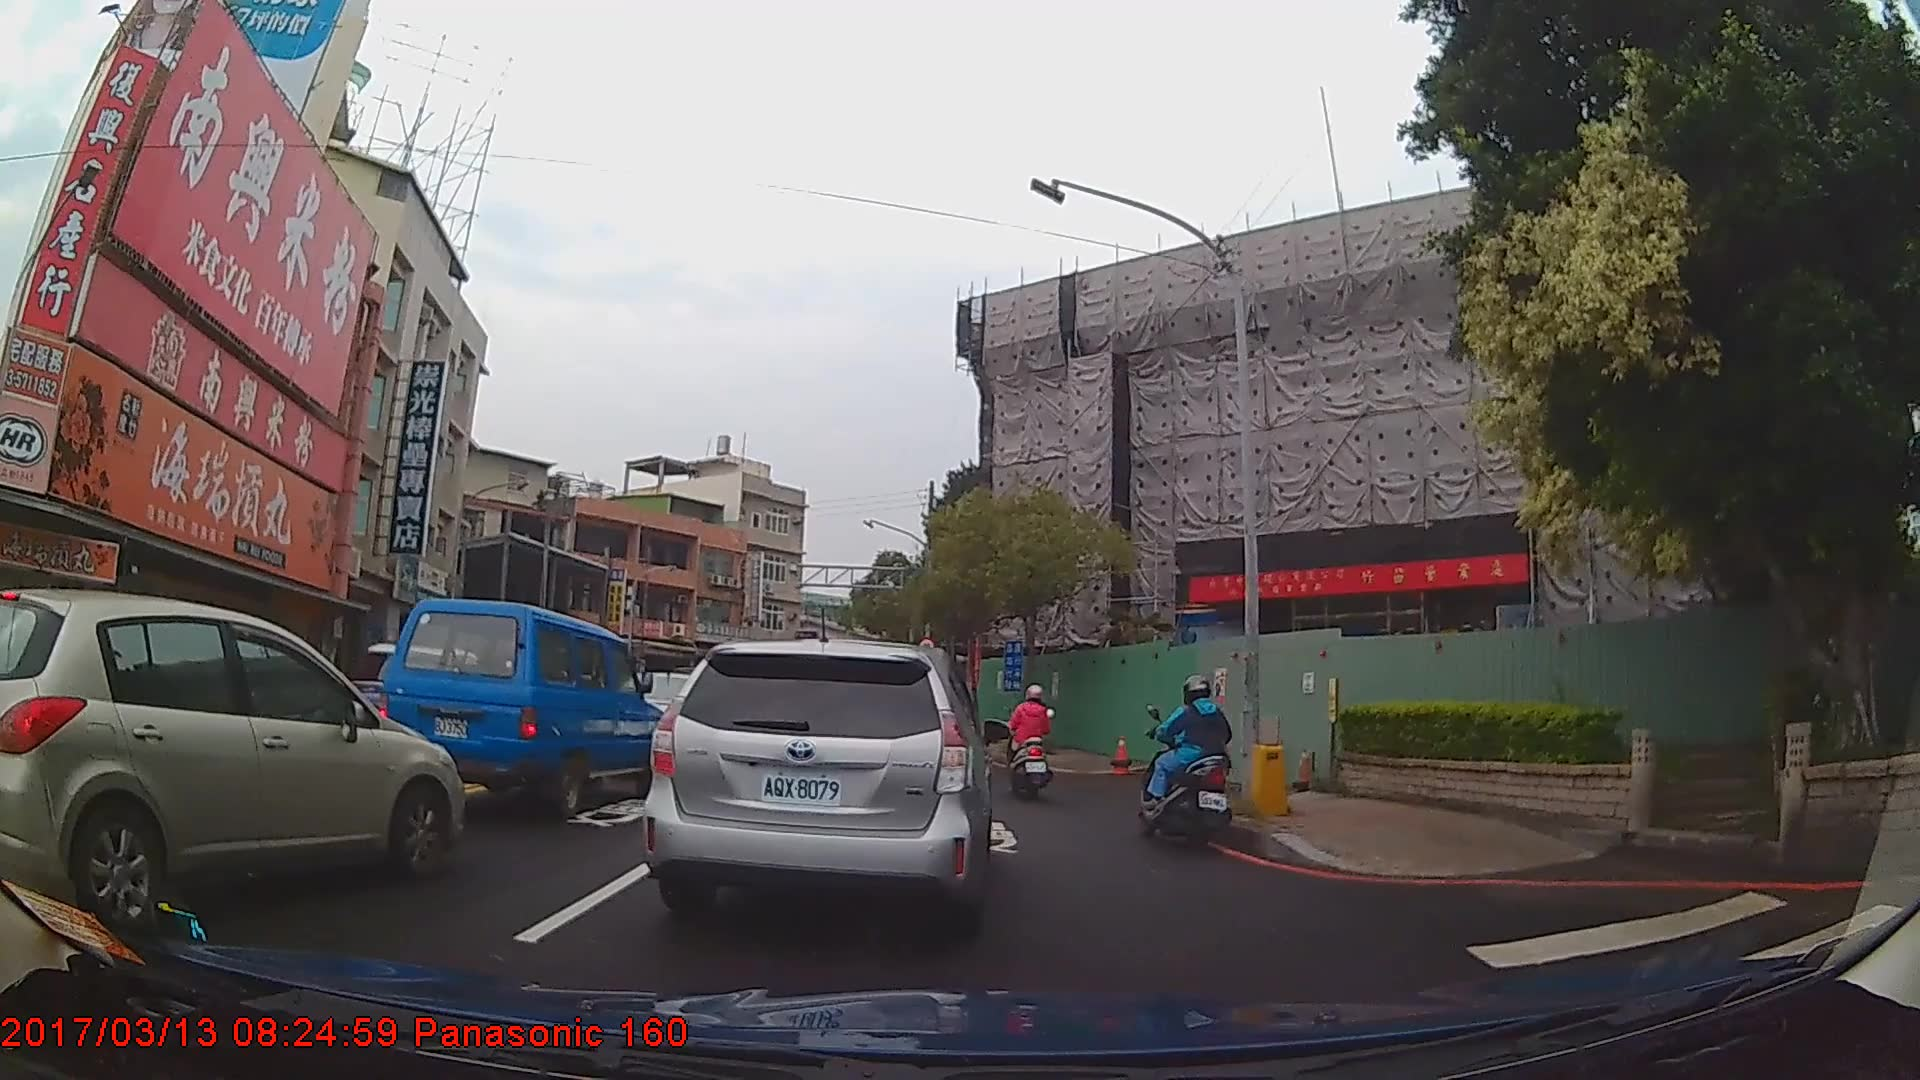rider: (1146, 675, 1241, 851), (1003, 685, 1059, 797)
vehicle: (0, 585, 464, 937), (638, 635, 995, 942), (376, 596, 665, 818)
